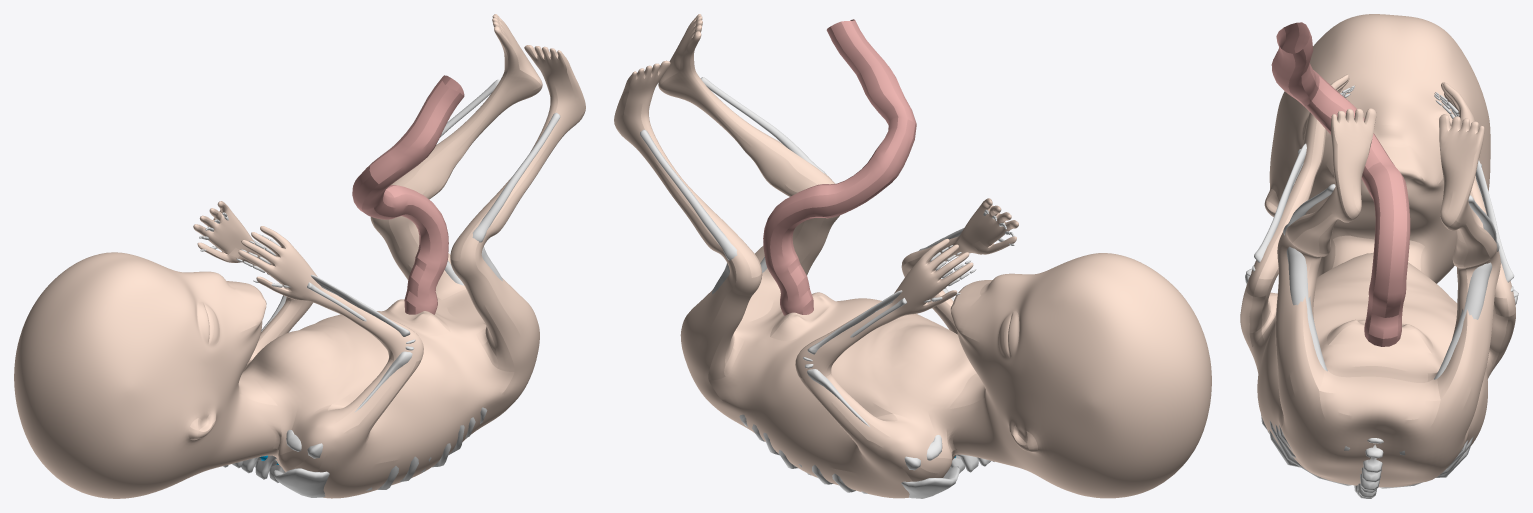
File: week28.glb
3 views of the same model, side by side, from view 1: azimuth 30°, elevation 25°; view 2: azimuth 150°, elevation 25°; view 3: azimuth 270°, elevation 25° (orthographic). The views are drawn at different scales.
Visible parts, largest first — view 1: FetusBody_Skin_Master, UmbilicalCord_Master, handbones, legbones, ribcage, backbone; view 2: FetusBody_Skin_Master, UmbilicalCord_Master, handbones, legbones, ribcage; view 3: FetusBody_Skin_Master, UmbilicalCord_Master, legbones, handbones, ribcage, backbone.
Boxes of the visible parts, x1,y1,x2,y2 form: FetusBody_Skin_Master: (14,14,585,498); UmbilicalCord_Master: (352,75,464,314); handbones: (199,212,415,497); legbones: (440,79,560,285); ribcage: (366,407,487,490); backbone: (223,455,285,482); FetusBody_Skin_Master: (614,14,1211,498); UmbilicalCord_Master: (763,19,916,315); handbones: (803,209,1014,498); legbones: (640,77,826,294); ribcage: (739,414,867,493); FetusBody_Skin_Master: (1240,14,1515,487); UmbilicalCord_Master: (1271,22,1410,346); legbones: (1283,184,1499,455); handbones: (1245,85,1518,304); ribcage: (1261,415,1473,488); backbone: (1354,438,1383,498).
Bounding box in the file's own units: 0.9732 × 0.7114 × 0.3698.
